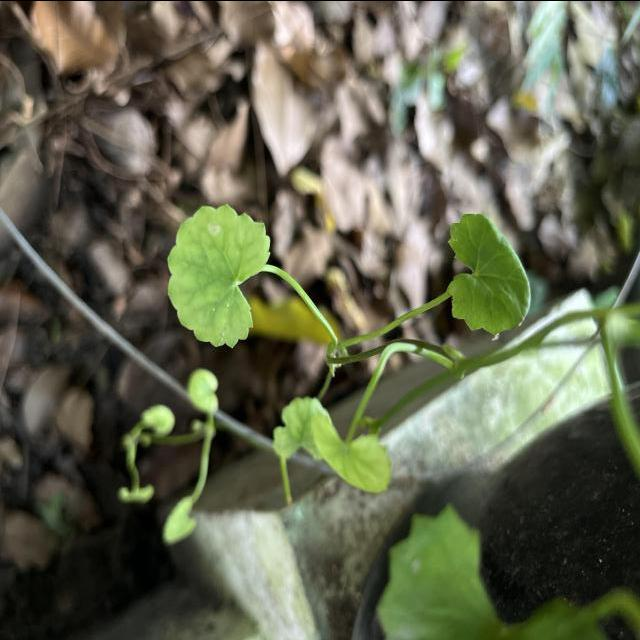Centella asiatica: (164, 200, 274, 352), (445, 210, 534, 337)
